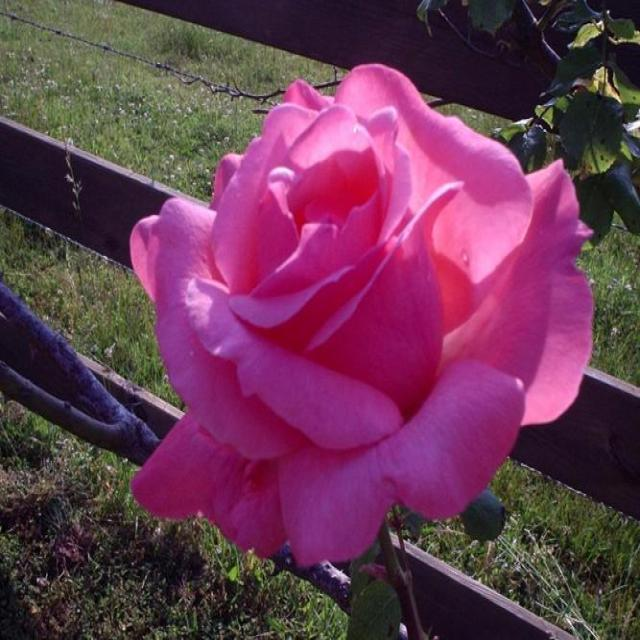rose: (122, 36, 614, 580)
